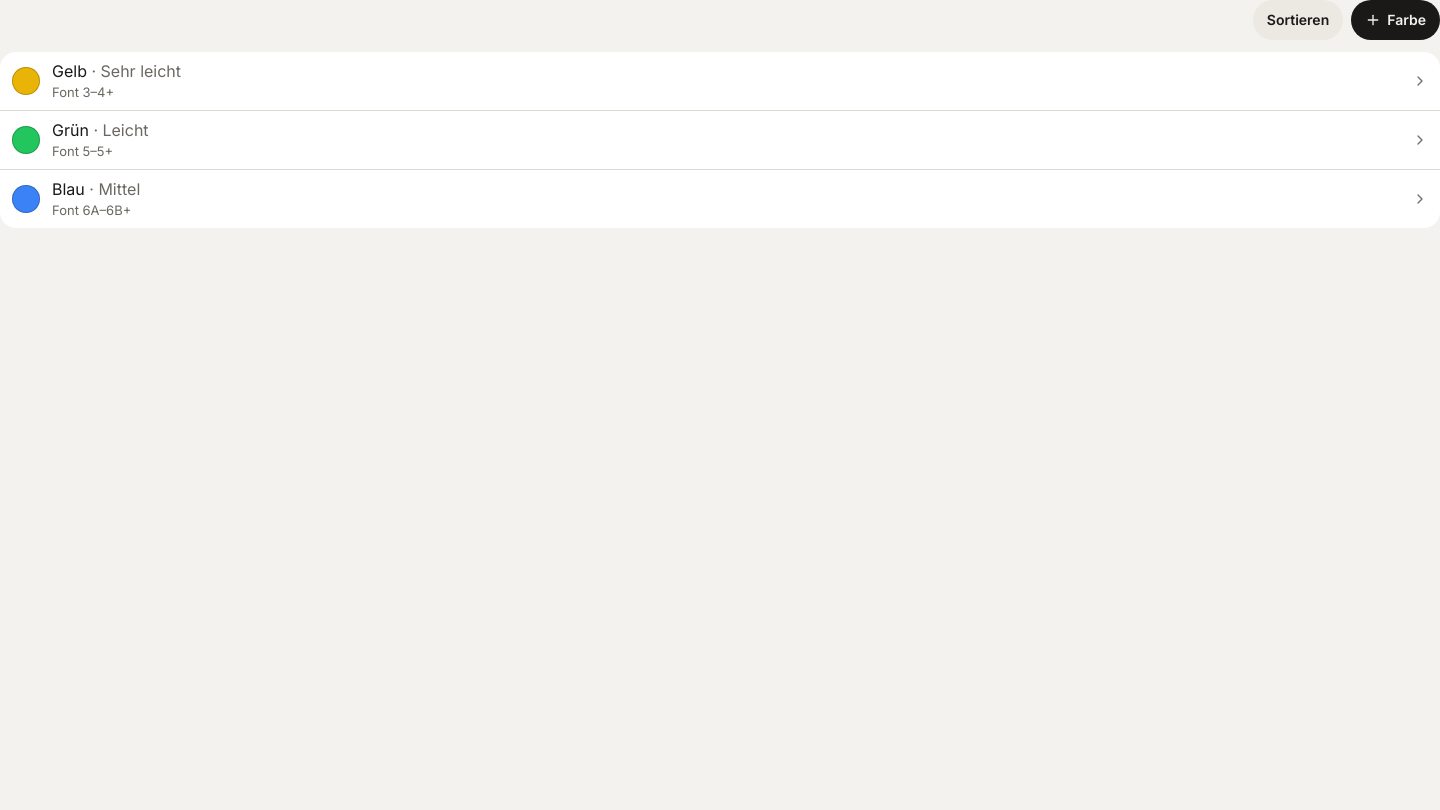
it: SPEC-023 F5: Farben als Liste + Sheet › Tippen auf eine Zeile öffnet das Sheet; Sichern speichert sofort
Click the button with test id "grade-row-0" at point(69, 71), box [0, 52, 1439, 110]
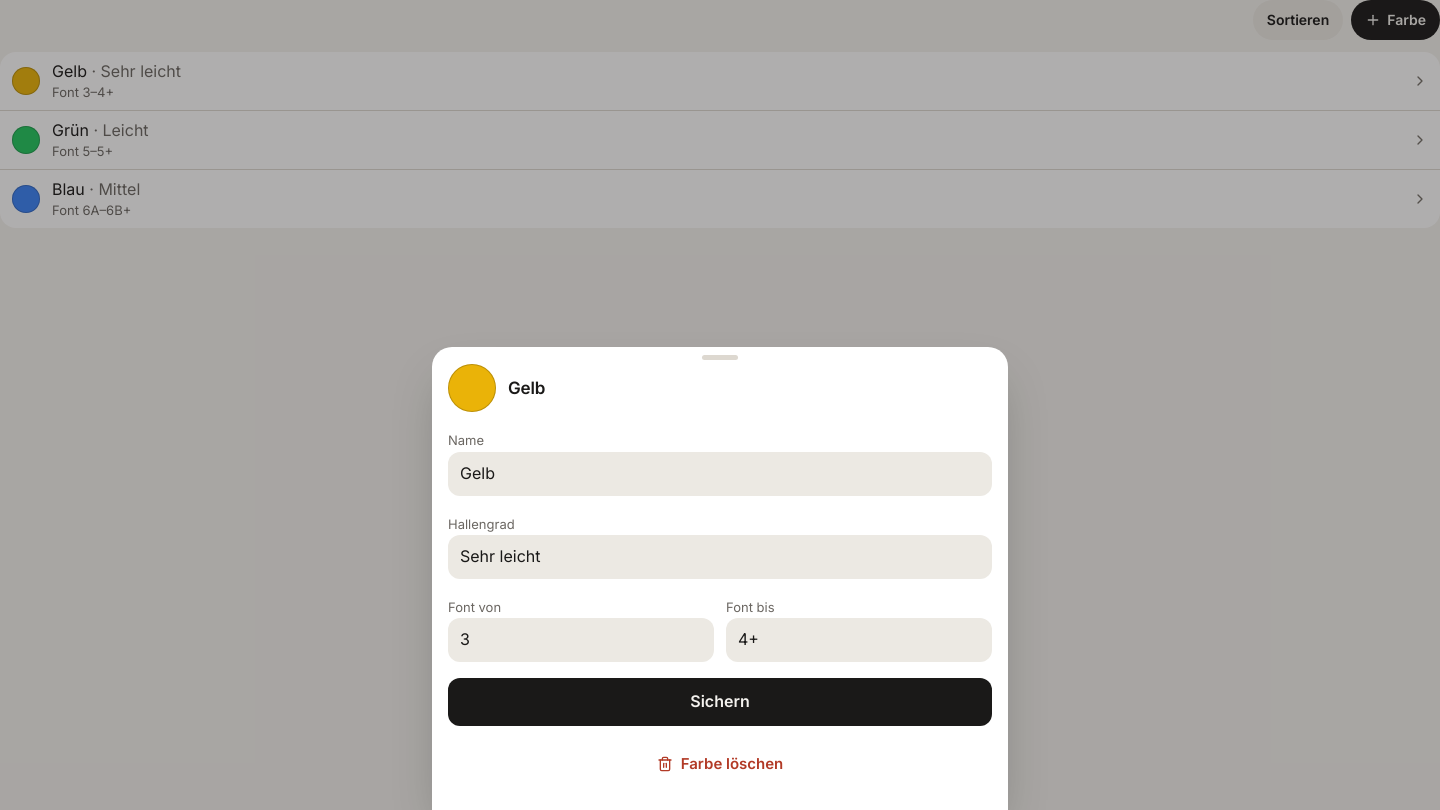
Check: the dialog with test id "grade-sheet" is shown
Replace the text in the field with test id "grade-label-input" with "Anfänger" at point(720, 557), box [448, 535, 992, 579]
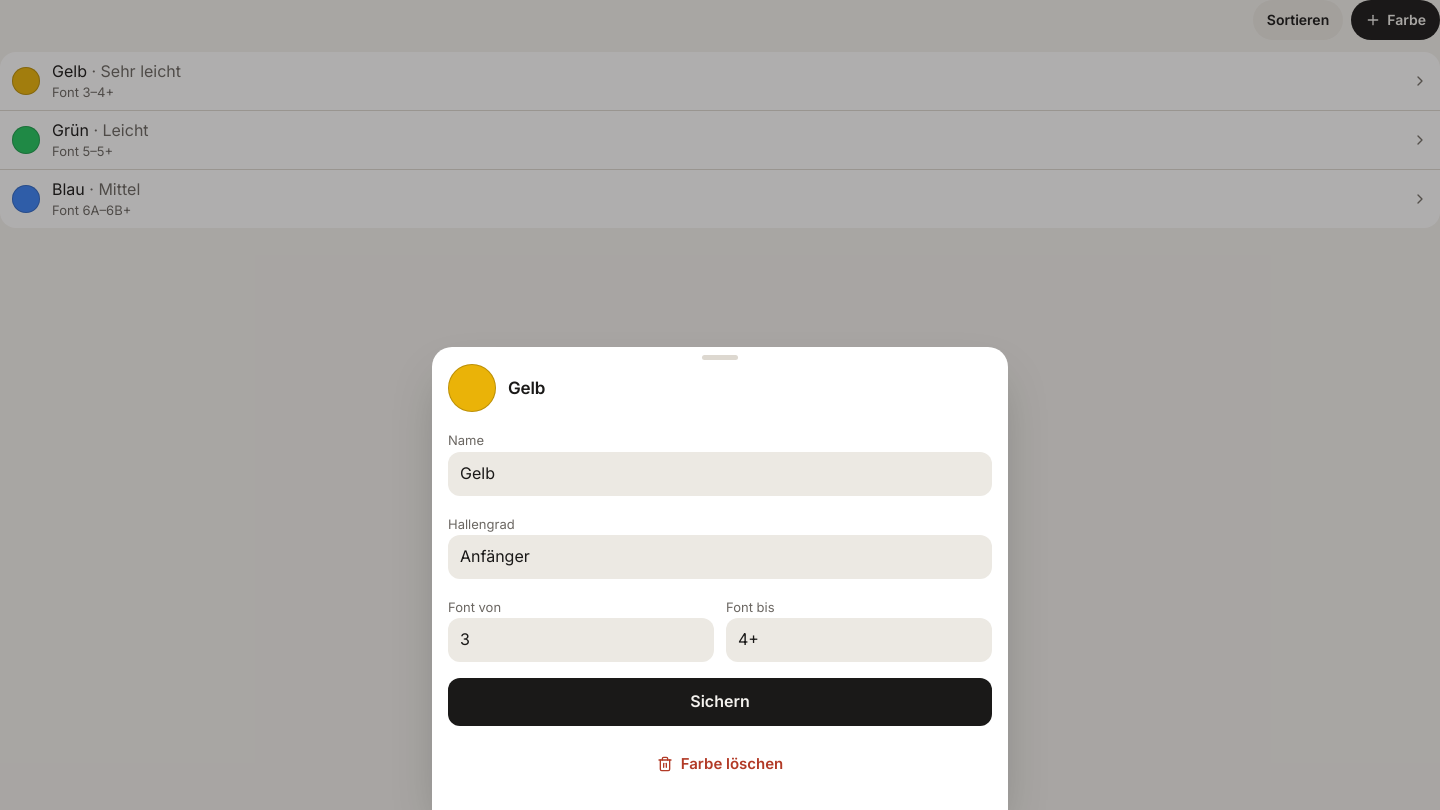
Click the button with test id "grade-save-btn" at point(720, 702), box [448, 678, 992, 726]
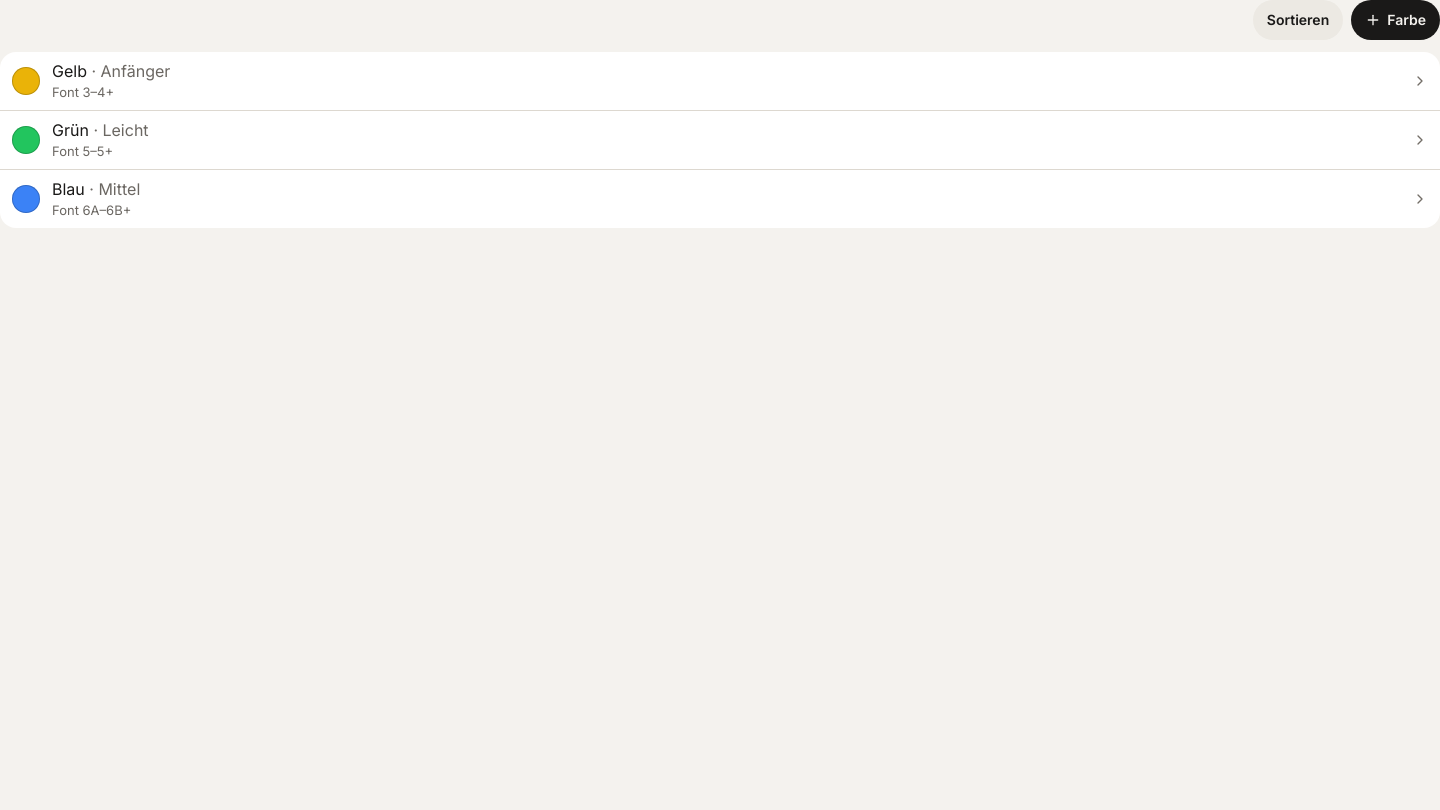
Check: the button with test id "grade-row-0" shows "Anfänger", box [0, 52, 1439, 110]
